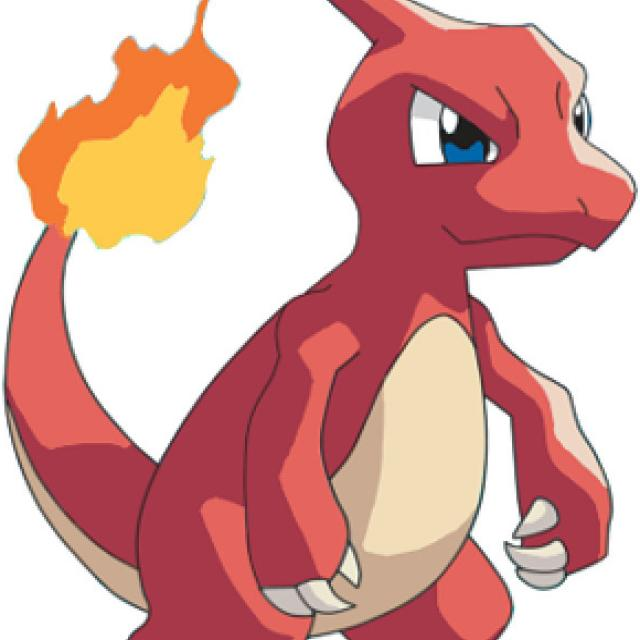Charmeleon: (0, 5, 630, 640)
